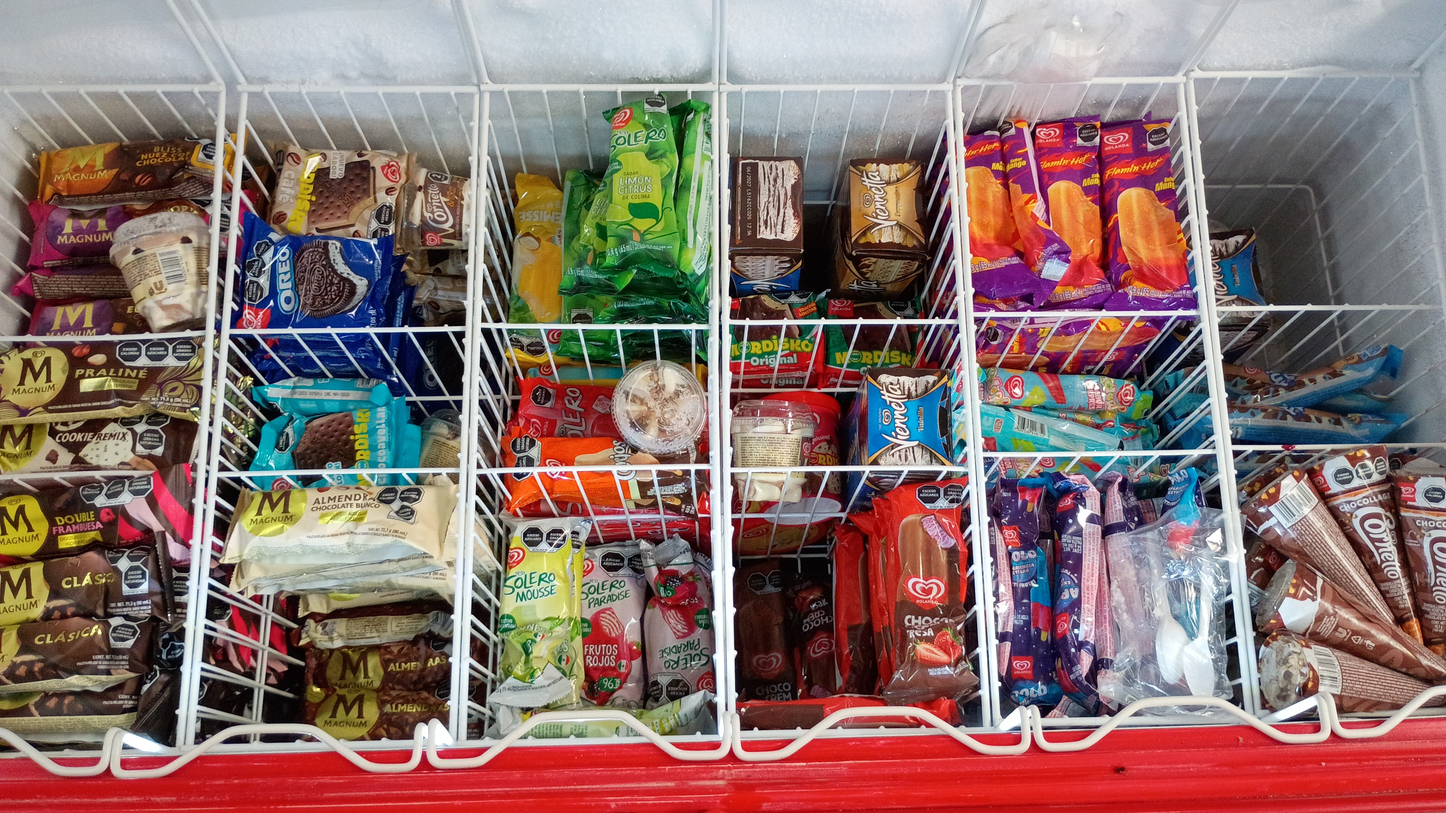Magnum clasica: (0, 554, 177, 612), (0, 671, 128, 740), (0, 615, 143, 670)
Oreo Mordizco: (245, 219, 375, 329)
